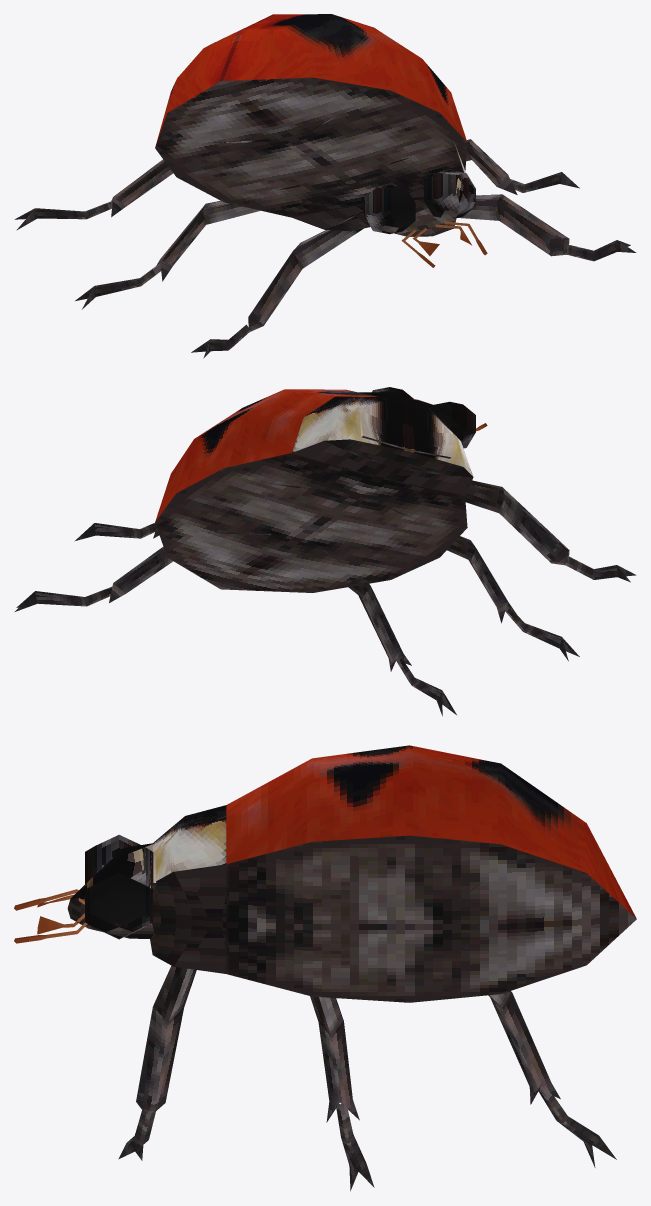
Rendered from ps2_save-icons_thekonchuusaishuu.glb.
3 views of the same model, one above another, from view 1: azimuth 30°, elevation 25°; view 2: azimuth 150°, elevation 25°; view 3: azimuth 270°, elevation 25° (orthographic). The views are drawn at different scales.
Parts seen in each view (by area): view 1: insect.ico; view 2: insect.ico; view 3: insect.ico.
Part boxes in pixels (x1,y1,x2,y2): insect.ico: (14, 14, 636, 358); insect.ico: (15, 387, 636, 716); insect.ico: (14, 745, 636, 1191).
Size of the model in its own units: 4.76 by 1.87 by 3.95.
1 material, 1 textured.
